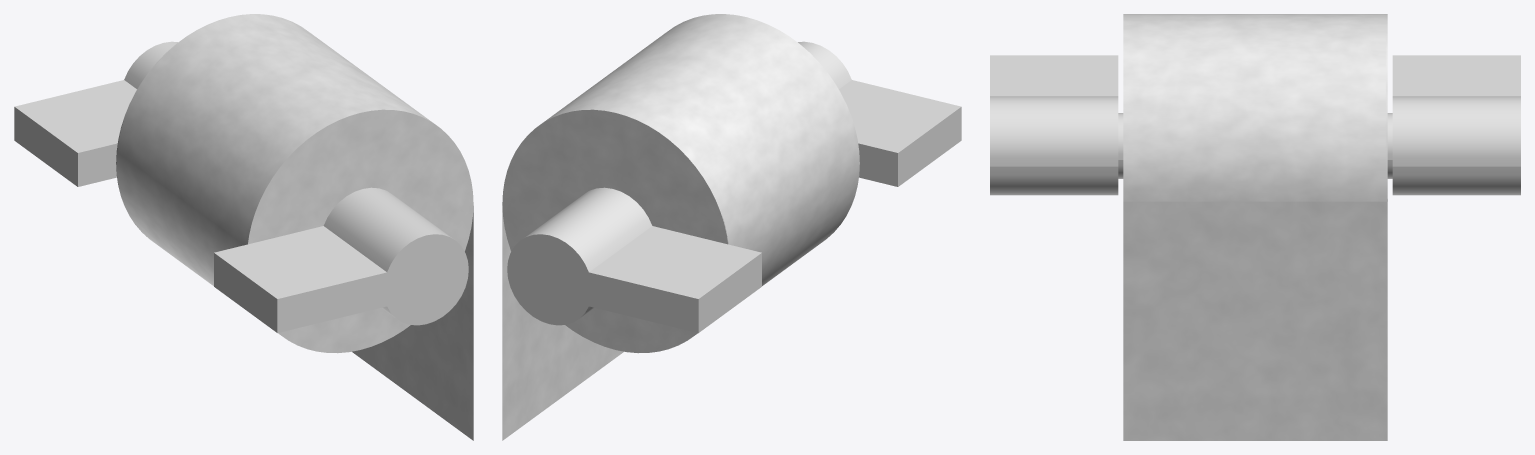
Rendered from ToiletPaperRolled.glb.
3 renders of one model, left to right at view 1: azimuth 30°, elevation 25°; view 2: azimuth 150°, elevation 25°; view 3: azimuth 270°, elevation 25°, orthographic.
Parts seen in each view (by area): view 1: ToiletPaperRolled, TP_Bar; view 2: ToiletPaperRolled, TP_Bar; view 3: ToiletPaperRolled, TP_Bar.
Part boxes in pixels (bbox=[...]): ToiletPaperRolled: bbox=[116, 14, 473, 440]; TP_Bar: bbox=[14, 41, 468, 332]; ToiletPaperRolled: bbox=[502, 14, 859, 440]; TP_Bar: bbox=[507, 41, 961, 332]; ToiletPaperRolled: bbox=[1123, 14, 1387, 440]; TP_Bar: bbox=[990, 55, 1520, 195].
Bounding box in the file's own units: 0.2314 × 0.3 × 0.402.
Materials: 2 (1 with a texture image).
